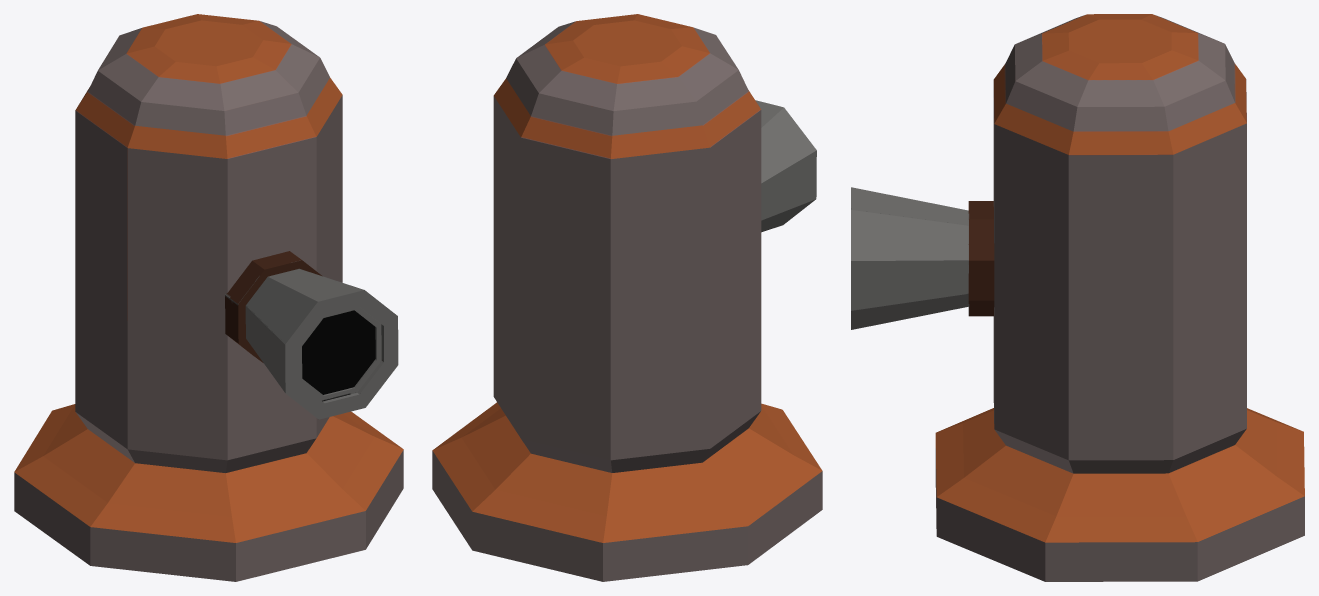
Rendered from tower1.fbx.
3 views of the same model, side by side, from view 1: azimuth 30°, elevation 25°; view 2: azimuth 150°, elevation 25°; view 3: azimuth 270°, elevation 25° (orthographic).
Parts seen in each view (by area): view 1: turret 1, tbarrel1; view 2: turret 1, tbarrel1; view 3: turret 1, tbarrel1.
Boxes of the visible parts, box(x1,y1,x2,y2) form: turret 1: box(14, 14, 403, 581); tbarrel1: box(225, 251, 398, 419); turret 1: box(432, 14, 822, 581); tbarrel1: box(755, 100, 816, 232); turret 1: box(935, 14, 1304, 581); tbarrel1: box(851, 187, 994, 329).
Bounding box in the file's own units: 430 × 594 × 528.
Materials: 2 (2 with a texture image).
